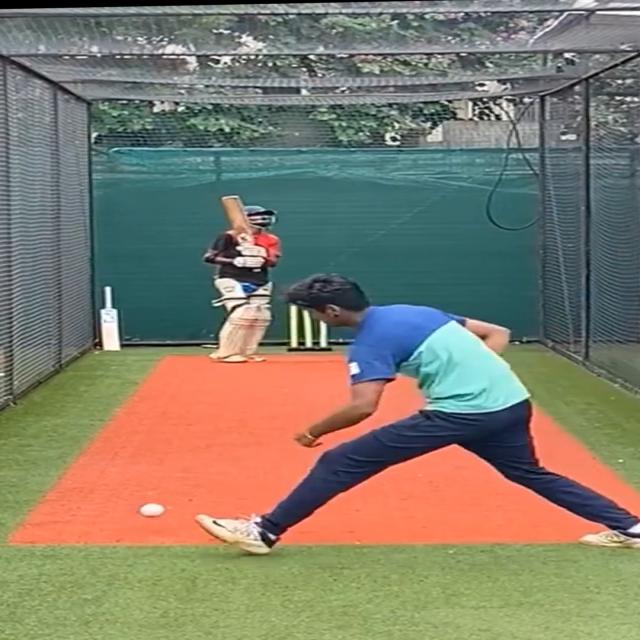ball: (136, 501, 170, 521)
stump: (280, 296, 333, 352)
